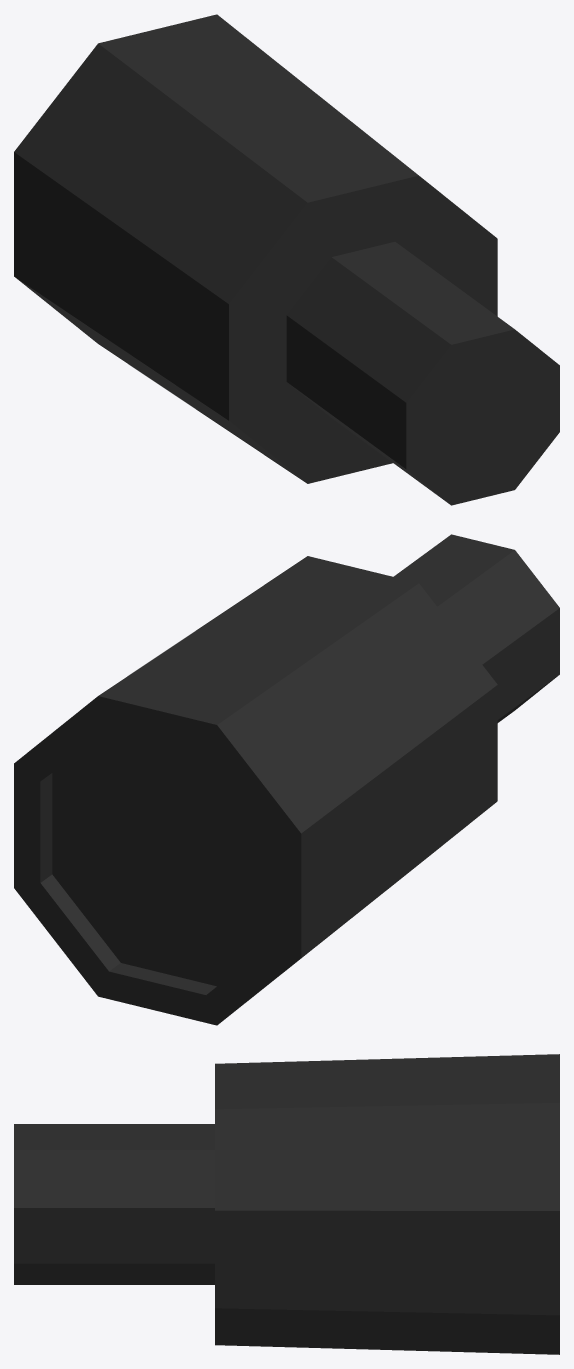
The model's file is AssaultRifle6_06_4.fbx.
3 views of the same model, one above another, from view 1: azimuth 30°, elevation 25°; view 2: azimuth 150°, elevation 25°; view 3: azimuth 270°, elevation 25° (orthographic). The views are drawn at different scales.
Visible parts, largest first — view 1: AssaultRifle6_06_4; view 2: AssaultRifle6_06_4; view 3: AssaultRifle6_06_4.
Part boxes in pixels (left/top/right/bottom): AssaultRifle6_06_4: left=14, top=14, right=559, bottom=505; AssaultRifle6_06_4: left=14, top=534, right=559, bottom=1025; AssaultRifle6_06_4: left=14, top=1054, right=559, bottom=1354.
Size of the model in its own units: 0.0117 by 0.0117 by 0.0229.
